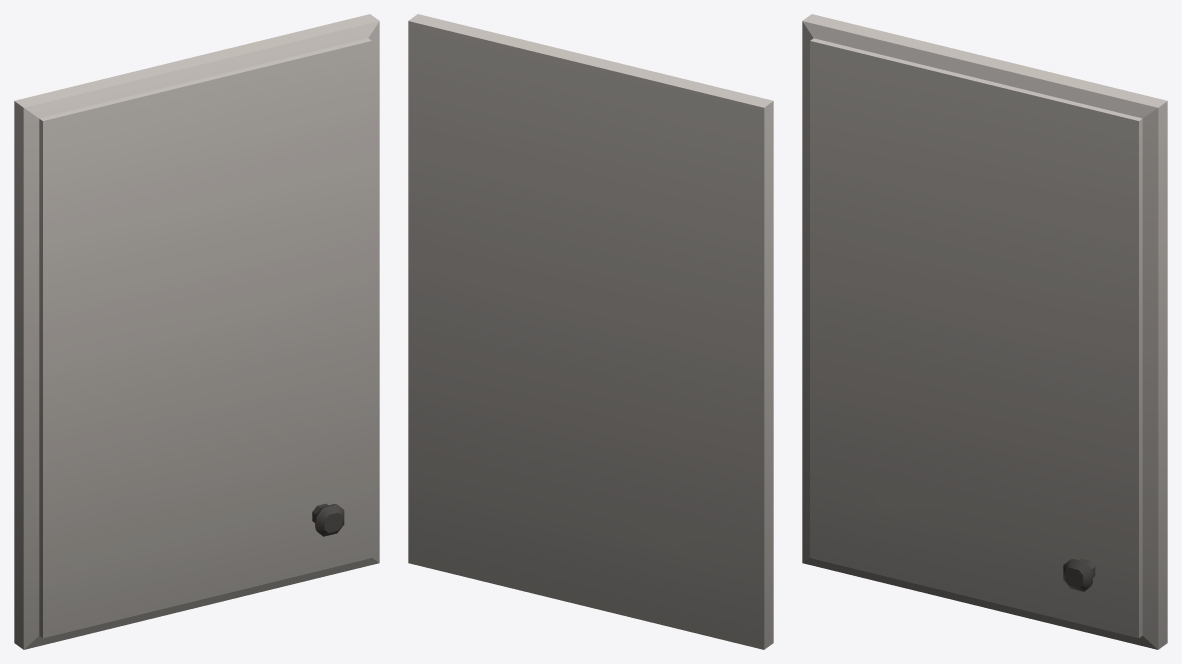
The model's file is Door_Cabinet_Left.fbx.
3 views of the same model, side by side, from view 1: azimuth 30°, elevation 25°; view 2: azimuth 150°, elevation 25°; view 3: azimuth 330°, elevation 25° (orthographic).
Parts seen in each view (by area): view 1: Door_Cabinet_Left; view 2: Door_Cabinet_Left; view 3: Door_Cabinet_Left.
Part boxes in pixels (x1,y1,x2,y2): Door_Cabinet_Left: (14, 14, 379, 649); Door_Cabinet_Left: (408, 14, 773, 649); Door_Cabinet_Left: (802, 14, 1167, 649).
Bounding box in the file's own units: 37.14 × 54.04 × 5.15.
